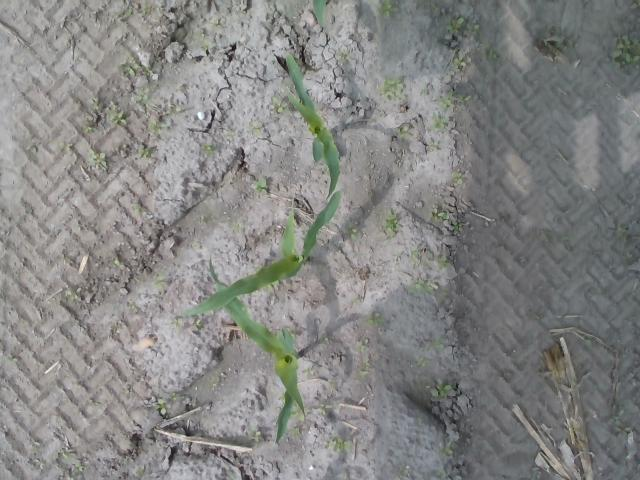Maize: (184, 189, 342, 317), (206, 257, 306, 443), (284, 52, 342, 202), (311, 0, 328, 30)
Weeds: (605, 32, 640, 66), (614, 221, 640, 265), (430, 206, 463, 234), (433, 88, 473, 108), (352, 336, 370, 380), (478, 39, 506, 64), (378, 78, 408, 100), (446, 16, 480, 35), (424, 380, 450, 402), (382, 207, 398, 241), (60, 450, 84, 471), (328, 434, 353, 454), (89, 145, 108, 168), (408, 278, 433, 295), (106, 106, 128, 125), (120, 54, 138, 76), (541, 230, 575, 241), (142, 120, 168, 134), (154, 397, 172, 416), (430, 110, 448, 128), (378, 1, 397, 18), (342, 223, 359, 240), (194, 31, 209, 50), (606, 409, 624, 424), (441, 441, 456, 458), (291, 404, 305, 422), (366, 312, 384, 326), (136, 88, 152, 103), (89, 96, 103, 111), (318, 403, 334, 416), (416, 355, 432, 368), (272, 96, 284, 113), (434, 335, 444, 355), (66, 287, 80, 301), (451, 54, 465, 68), (254, 178, 268, 192), (433, 255, 448, 268), (248, 429, 262, 442), (200, 142, 213, 156), (151, 274, 164, 288), (450, 171, 462, 186), (82, 121, 95, 134), (3, 352, 17, 364), (166, 107, 182, 117), (138, 146, 150, 159), (399, 125, 410, 139), (169, 318, 183, 329), (302, 366, 314, 378), (319, 334, 332, 344), (191, 320, 202, 331), (408, 246, 418, 258), (210, 18, 220, 29), (434, 471, 446, 480), (110, 258, 120, 268), (60, 141, 70, 151), (142, 66, 152, 76), (268, 280, 280, 288), (629, 0, 640, 8), (132, 206, 140, 216), (292, 427, 300, 436), (126, 6, 132, 16), (208, 382, 216, 388), (172, 392, 177, 400)
